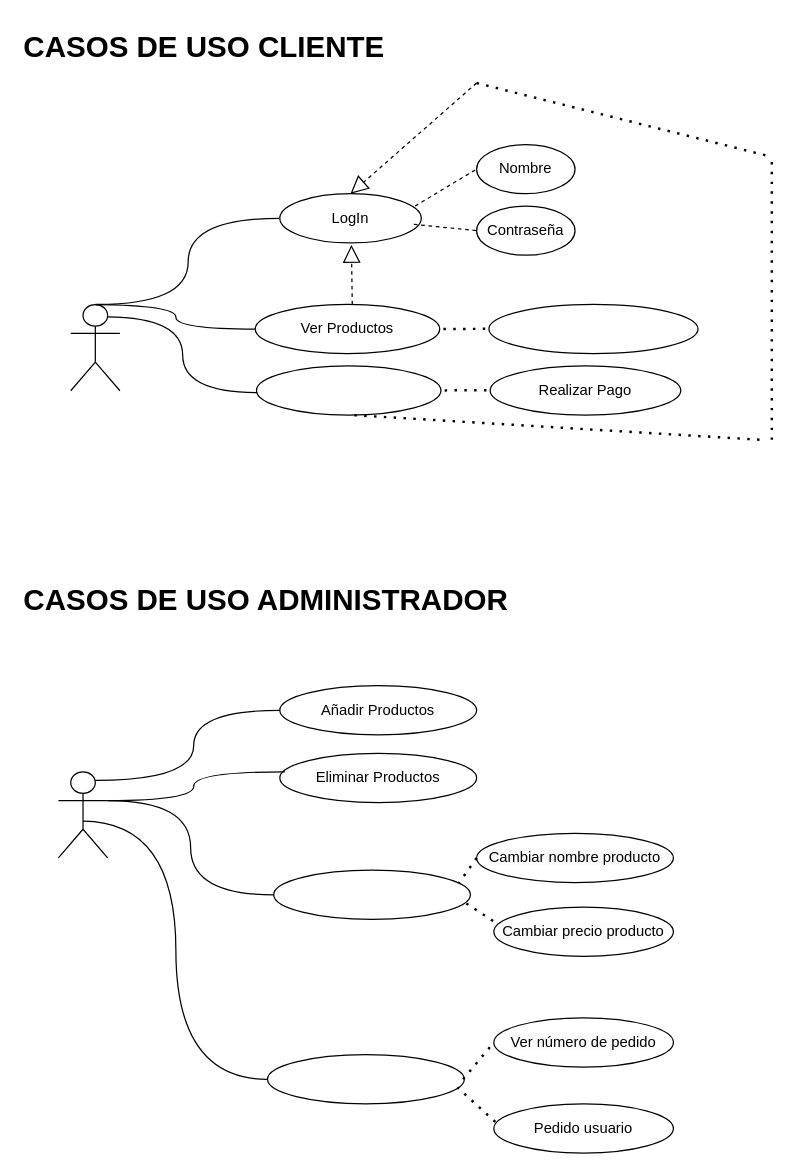
Some shapes in this 795 by 1175 pixel diagram are drawn without their labels. The centre of each missing label's shape, as x and y in pixels:
"Administrador" belongs at (82,814).
"Agregar Productos al Carrito" belongs at (593,328).
"Cliente" belongs at (94,347).
"Gestión de Pedidos" belongs at (365,1078).
"Modificar Productos" belongs at (371,894).
"Realizar Pedido" belongs at (348,390).
